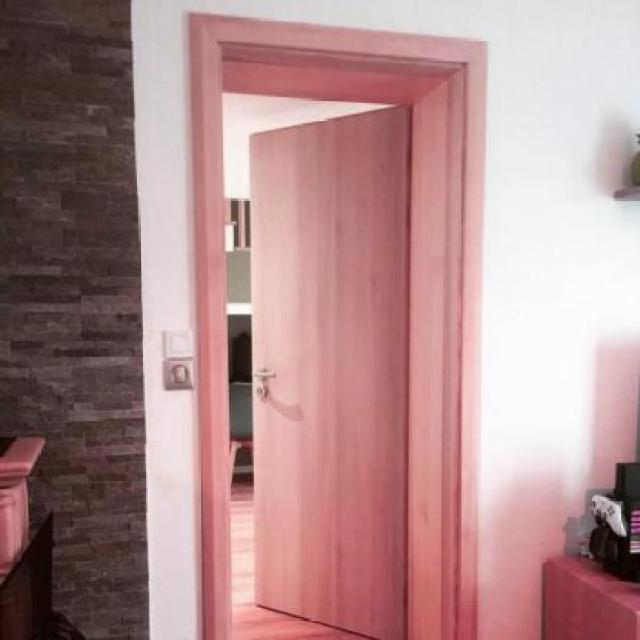door_handle: (251, 363, 284, 385)
